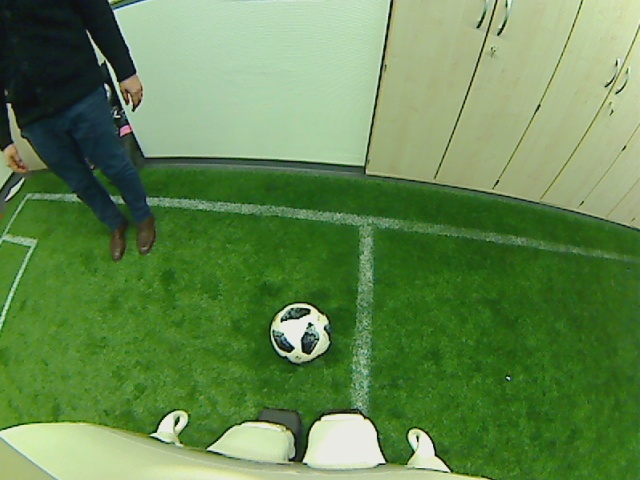ball: (269, 303, 332, 366)
